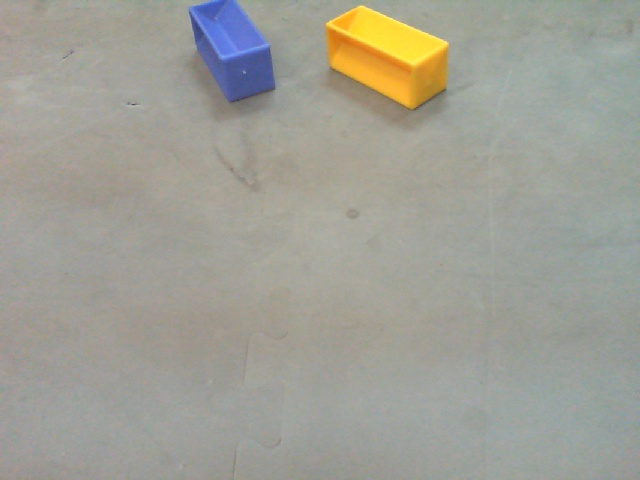BlueSample: (184, 1, 278, 105)
YellowSample: (324, 3, 452, 115)
